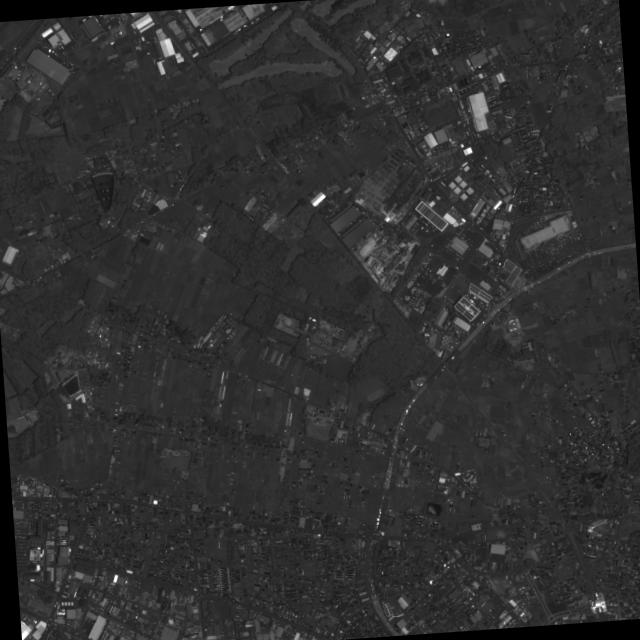storage-tank: (382, 284, 386, 288), (389, 287, 392, 291), (385, 286, 389, 289)
